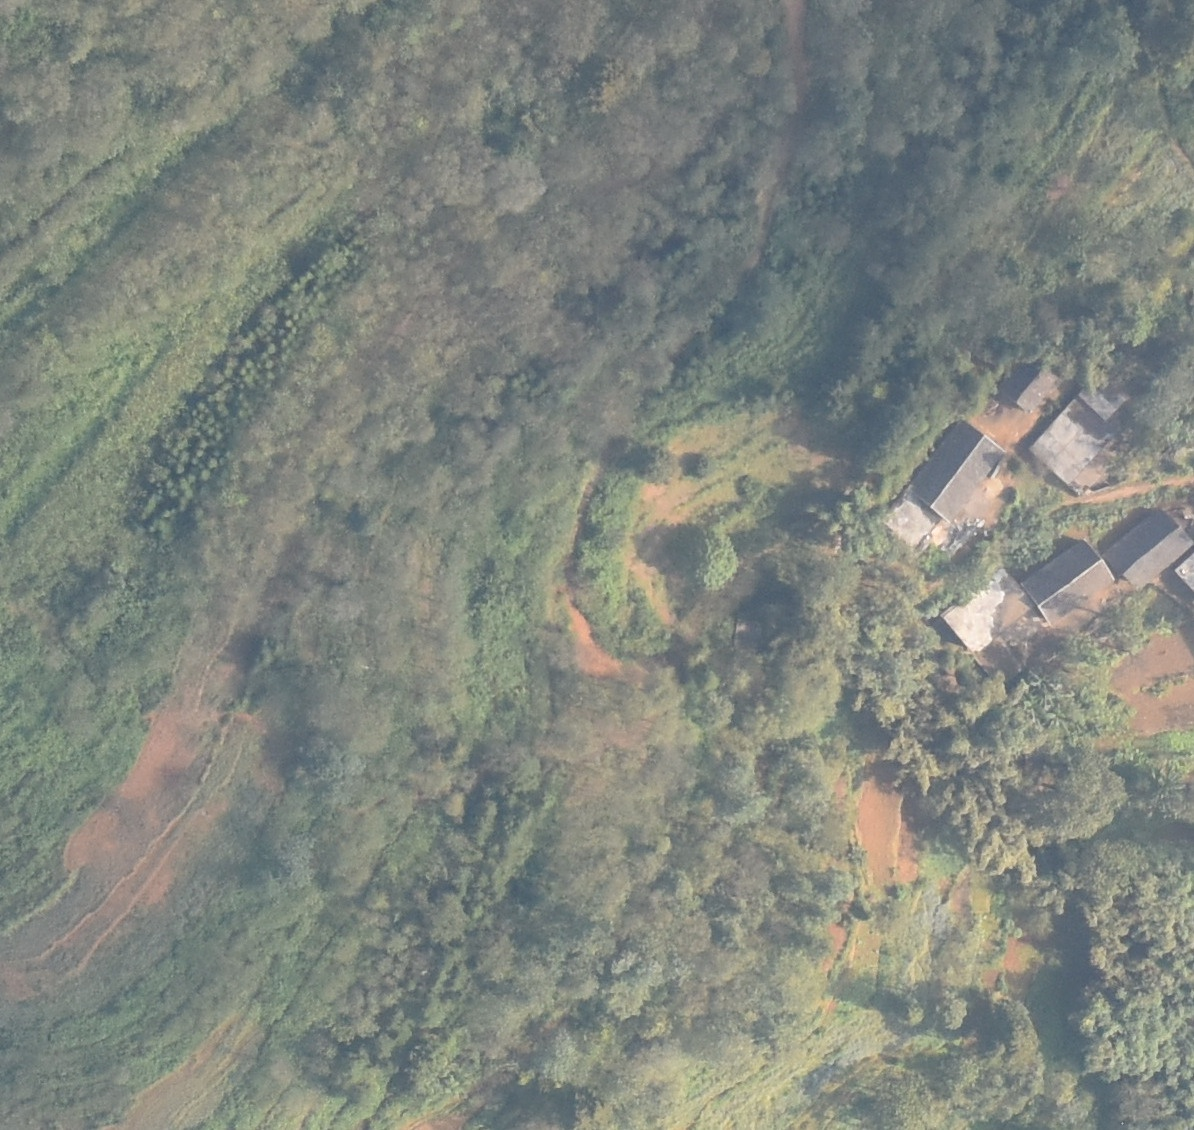building: (907, 418, 1009, 524), (940, 562, 1037, 651), (1029, 397, 1116, 488), (1025, 540, 1119, 621), (1104, 514, 1194, 589), (880, 484, 943, 546), (1078, 374, 1135, 424), (1004, 362, 1059, 411)
